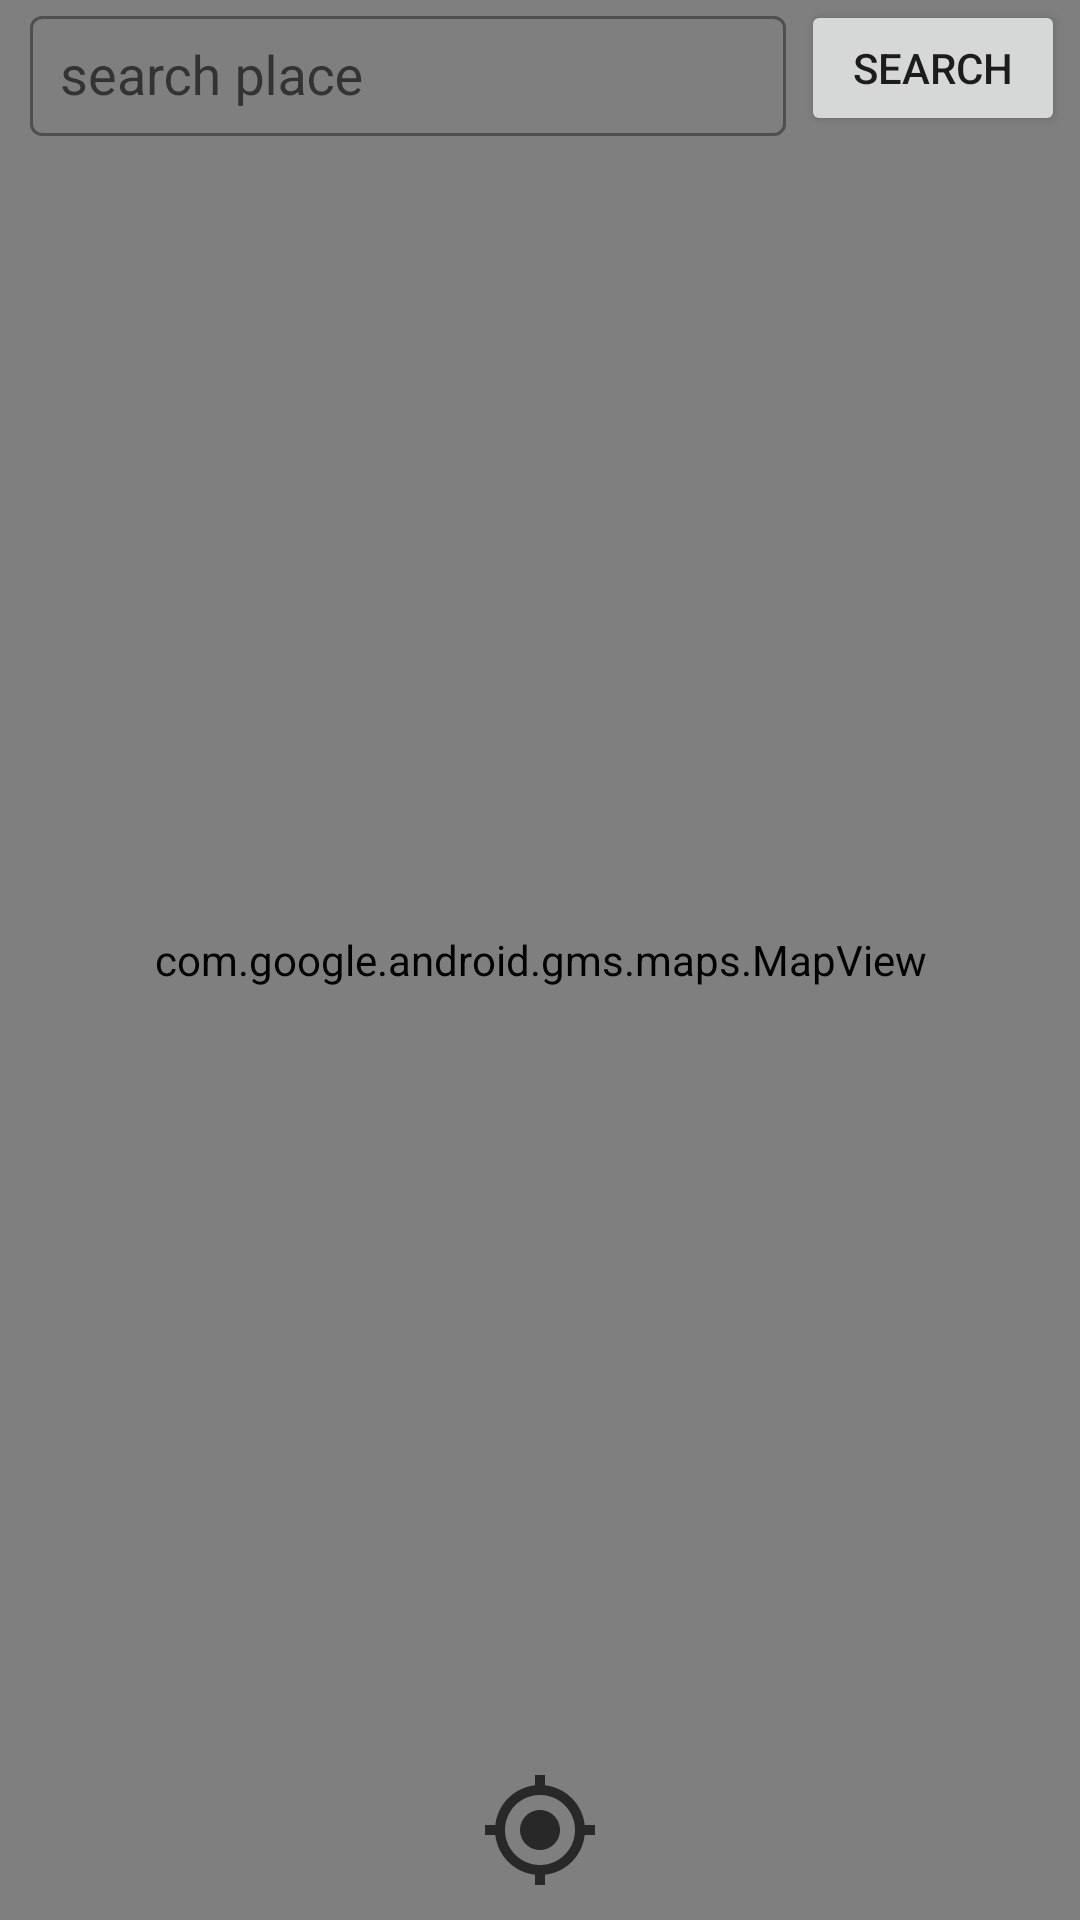

Screen size 1080 × 1920. Icon name, then its center in pixels as point (x, y):
location: point (540, 1830)
